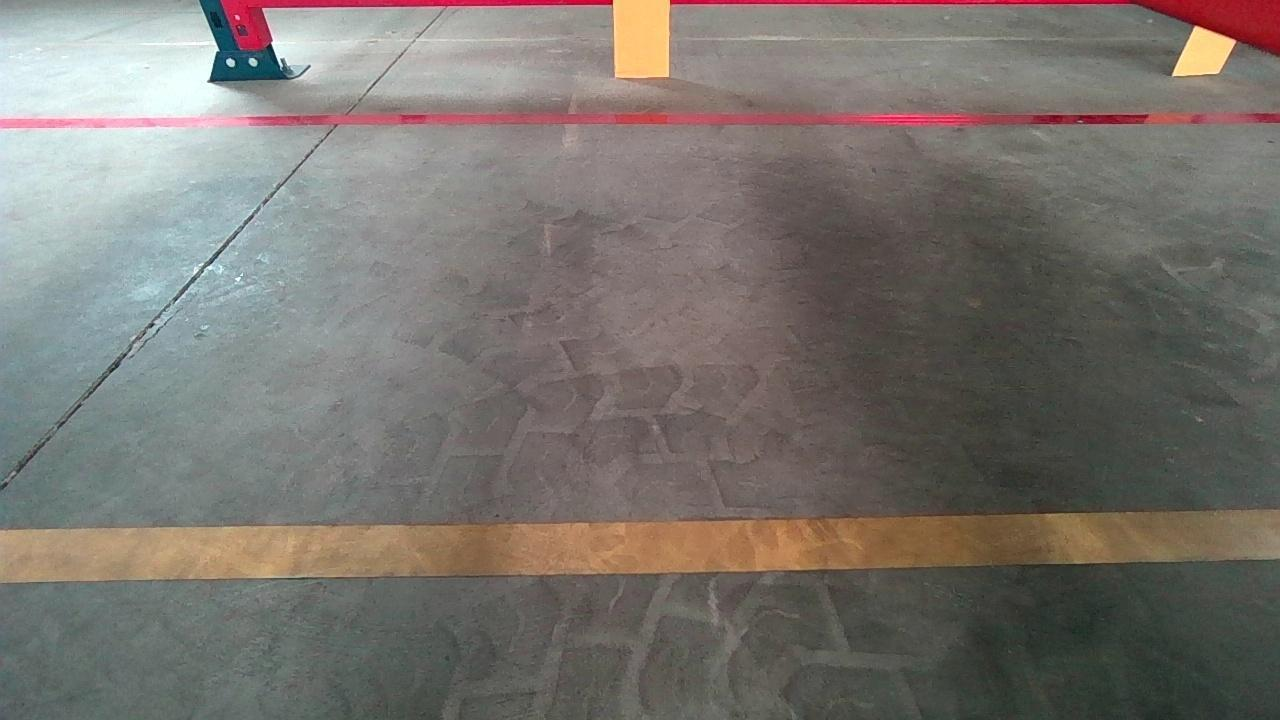orange_strip: (614, 1, 671, 75), (1171, 23, 1238, 76)
red_line: (0, 109, 1280, 128)
